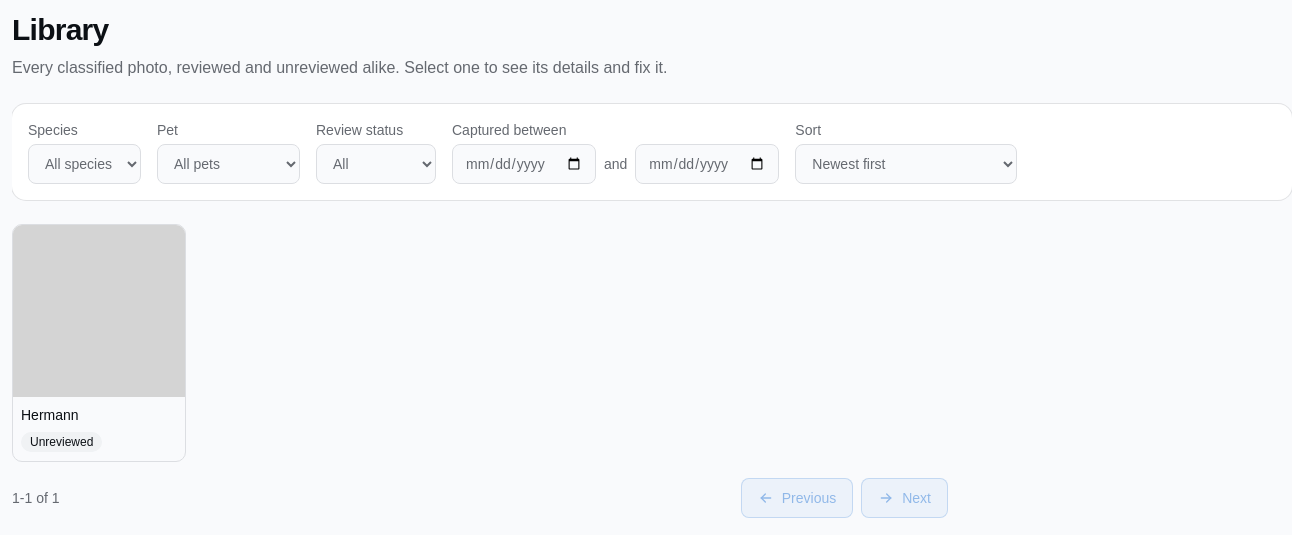
Scenario: LibraryPage › clears the selection when a filter changes
The width and height of the screenshot is (1292, 535).
Click the button with aria-label "View details for Hermann". click: (99,343)
box: [12,224,186,462]
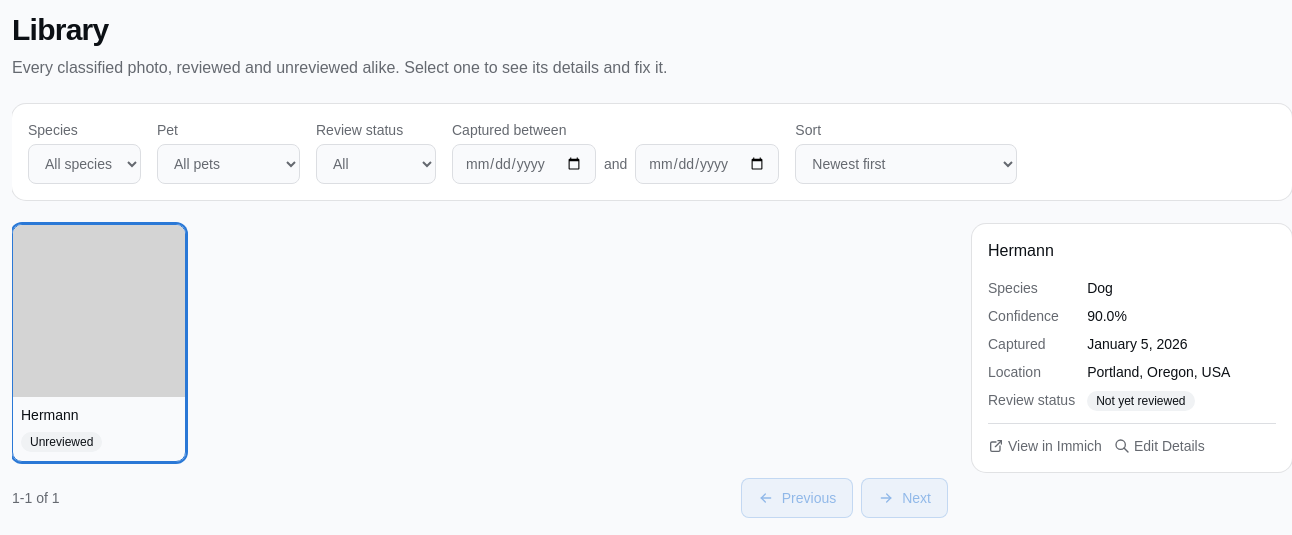
Result: the text "Portland, Oregon, USA" is shown at [1087,364,1230,380]
Select "Unreviewed" in the dropdown labelled "Review status". click: (376,164)
box: [316,144,436,184]
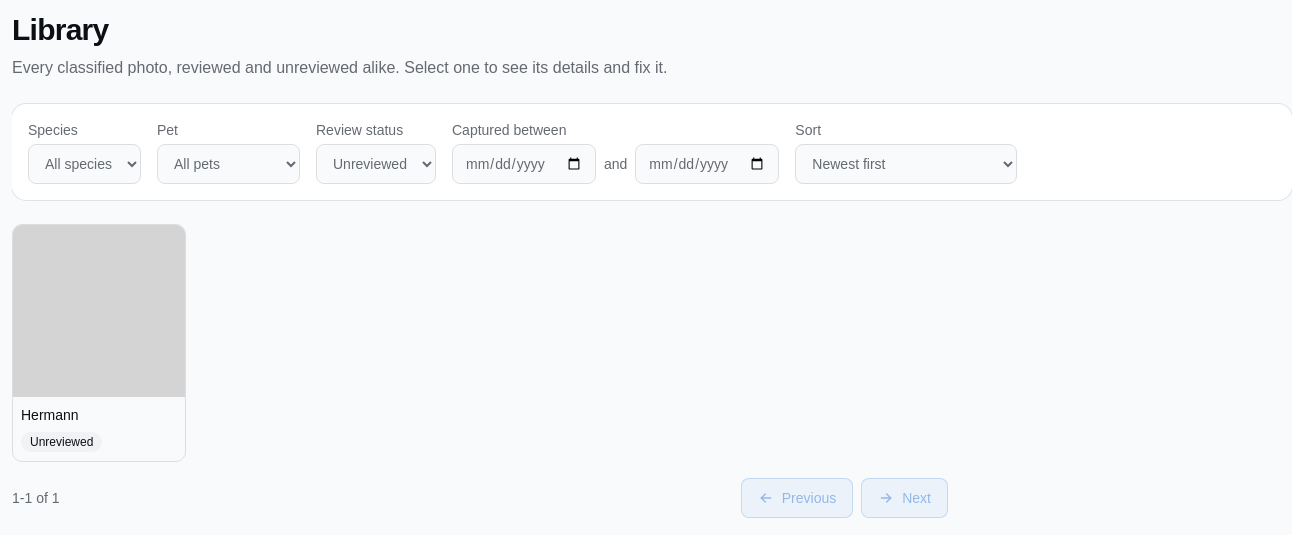
Result: the text "Portland, Oregon, USA" is gone
